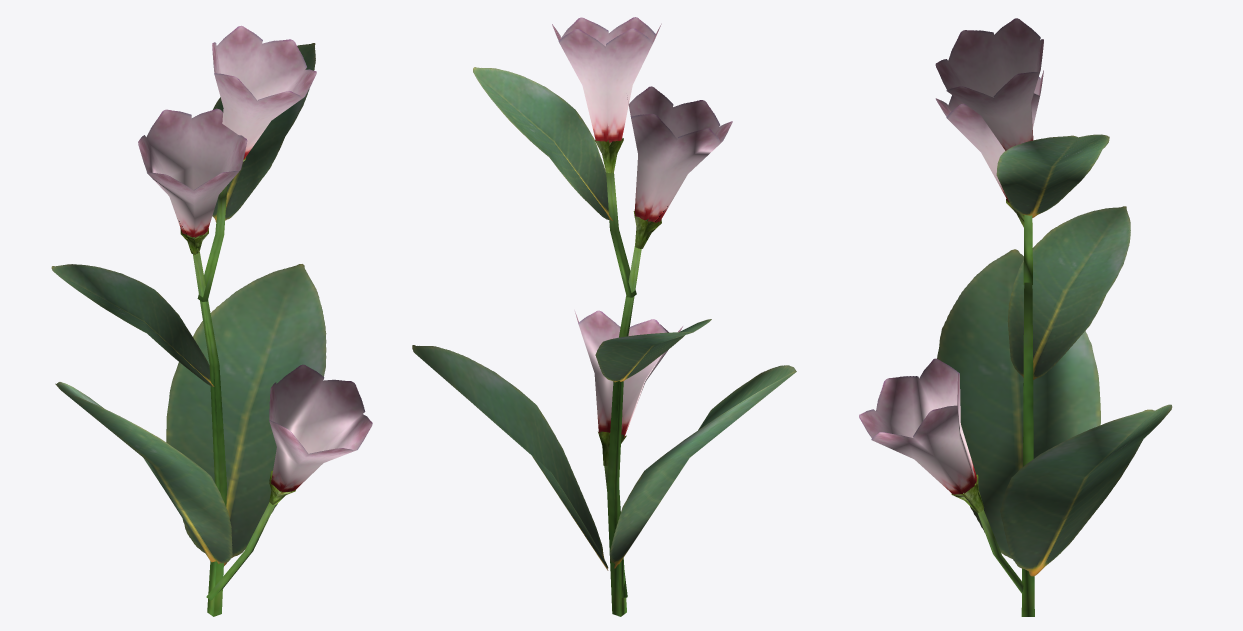
Rendered from bellf3.obj.
3 views of the same model, side by side, from view 1: azimuth 30°, elevation 25°; view 2: azimuth 150°, elevation 25°; view 3: azimuth 270°, elevation 25° (orthographic). The views are drawn at different scales.
Parts seen in each view (by area): view 1: bellflower03; view 2: bellflower03; view 3: bellflower03.
Boxes of the visible parts, x1=… form: bellflower03: x1=51, y1=25, x2=372, y2=616; bellflower03: x1=412, y1=17, x2=796, y2=616; bellflower03: x1=859, y1=18, x2=1172, y2=616.
Size of the model in its own units: 27.63 by 43.41 by 24.47.
2 materials, 2 textured.
